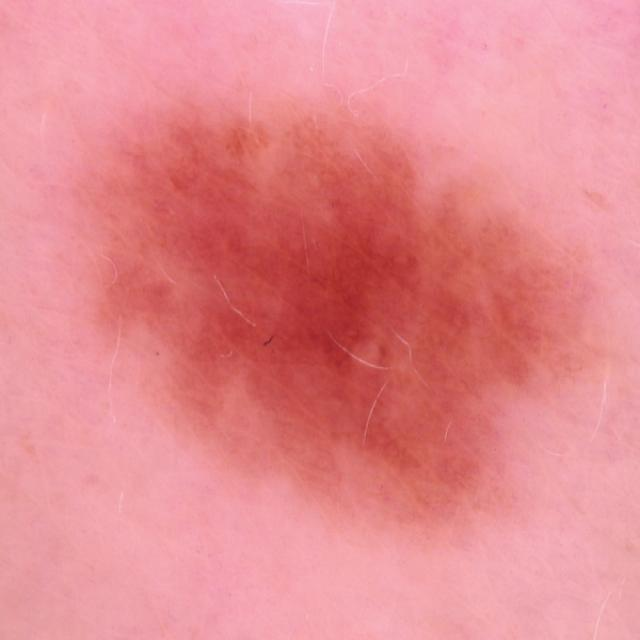NV: (83, 92, 597, 542)
